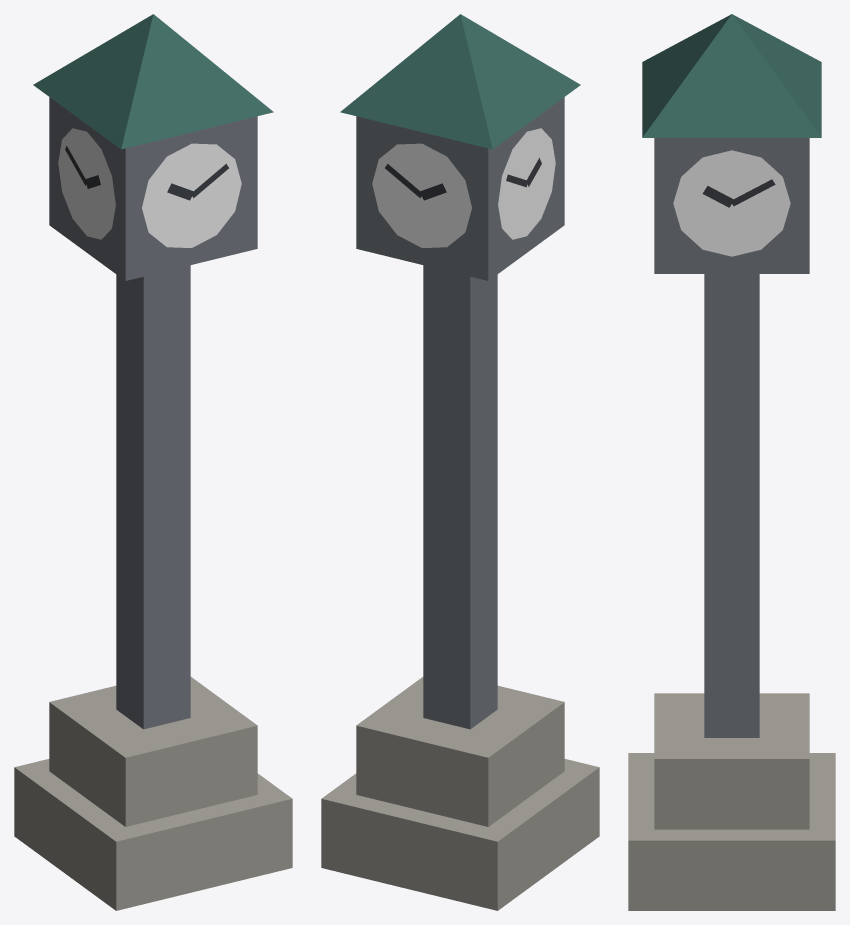
Rendered from site_clock.fbx.
3 renders of one model, left to right at view 1: azimuth 30°, elevation 25°; view 2: azimuth 150°, elevation 25°; view 3: azimuth 270°, elevation 25°, orthographic.
Visible parts, largest first — view 1: a3002/0/site_clock; view 2: a3002/0/site_clock; view 3: a3002/0/site_clock.
Boxes of the visible parts, bbox=[...] form: a3002/0/site_clock: bbox=[14, 14, 292, 910]; a3002/0/site_clock: bbox=[321, 14, 599, 910]; a3002/0/site_clock: bbox=[628, 14, 835, 910].
Size of the model in its own units: 1.2 by 5.45 by 1.2.
